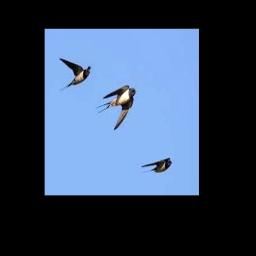Swallow: (95, 85, 136, 130), (59, 58, 90, 92), (141, 158, 172, 173)
